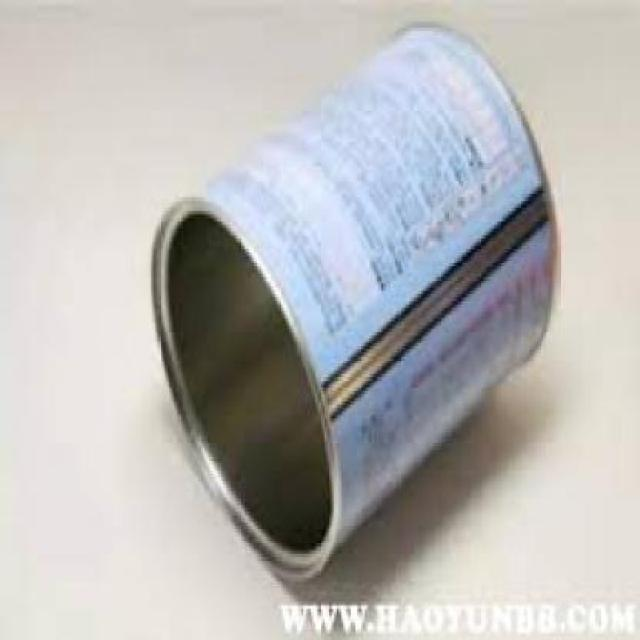METAL: (150, 21, 553, 592)
